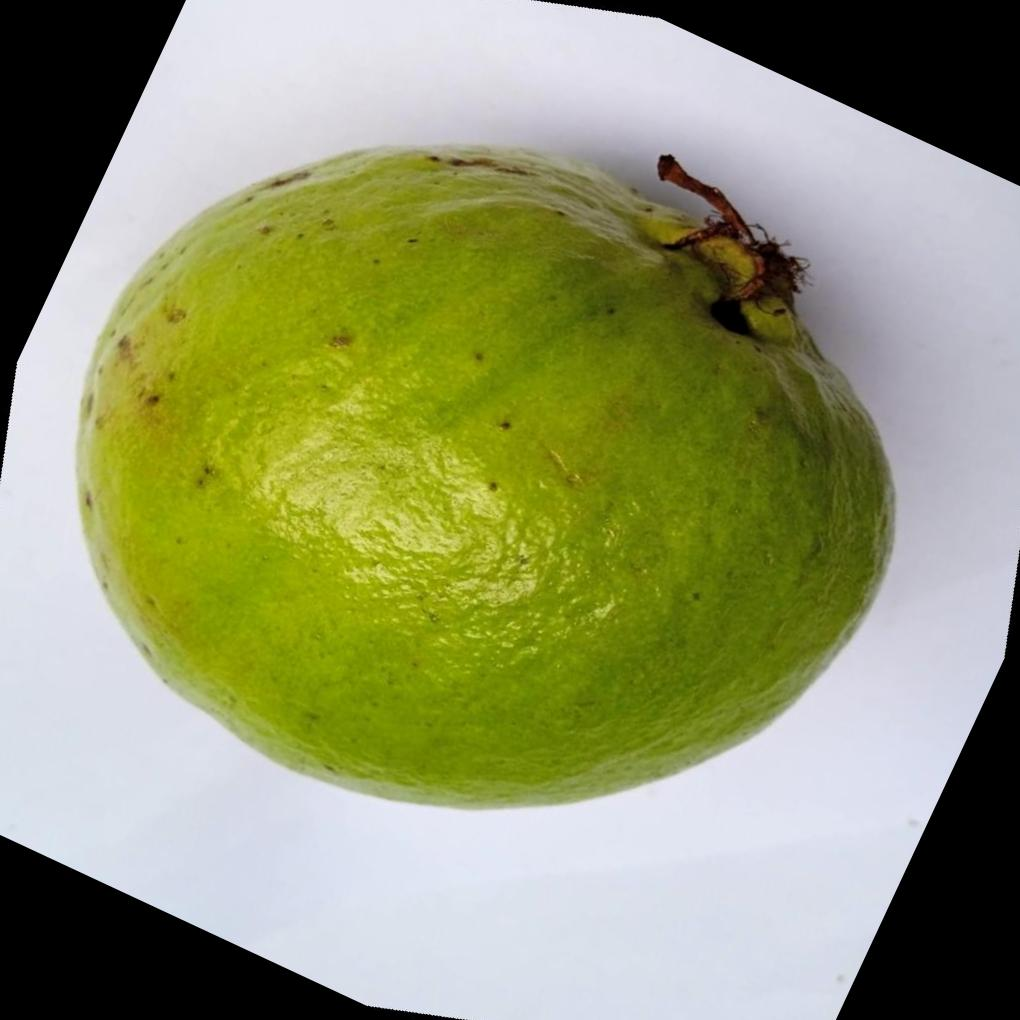FreshGuava: (74, 145, 901, 813)
